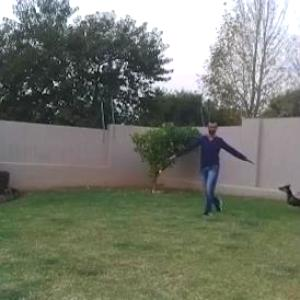land: (160, 113, 244, 212)
